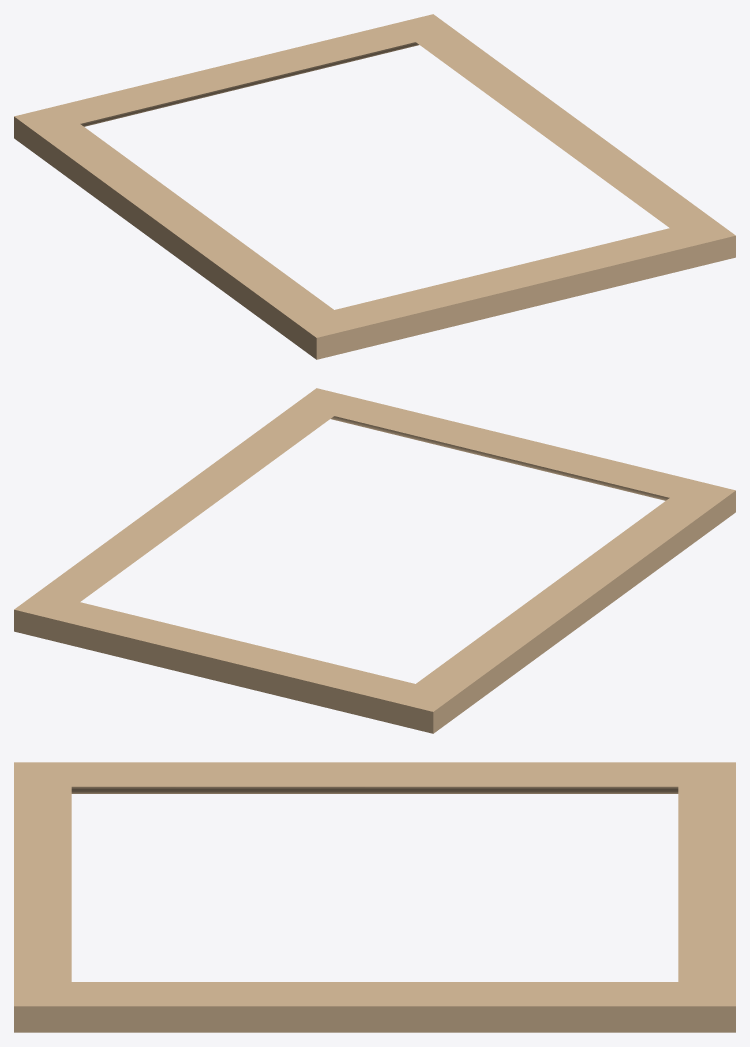
The model's file is frame.FBX.
3 views of the same model, one above another, from view 1: azimuth 30°, elevation 25°; view 2: azimuth 150°, elevation 25°; view 3: azimuth 270°, elevation 25° (orthographic). The views are drawn at different scales.
Parts seen in each view (by area): view 1: back panel.001; view 2: back panel.001; view 3: back panel.001.
Part boxes in pixels (x1,y1,x2,y2): back panel.001: (14,14,735,359); back panel.001: (14,388,735,733); back panel.001: (14,762,735,1032).
Size of the model in its own units: 20000 by 1000 by 25000.
